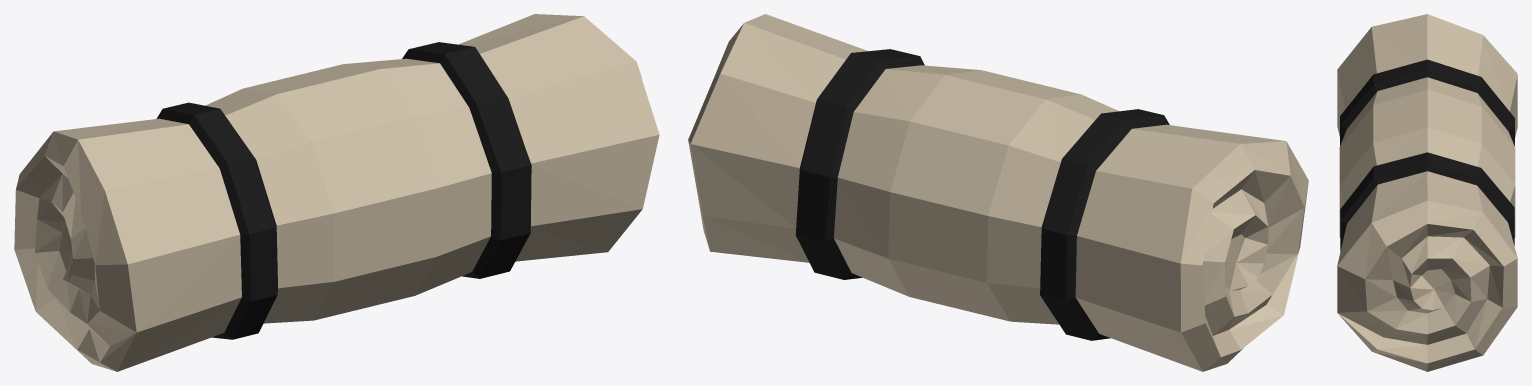
Rendered from SM_Item_Roll_Attachment_01.glb.
3 renders of one model, left to right at view 1: azimuth 30°, elevation 25°; view 2: azimuth 150°, elevation 25°; view 3: azimuth 270°, elevation 25°, orthographic. The views are drawn at different scales.
Parts seen in each view (by area): view 1: SM_Item_Roll_Attachment_01_00; view 2: SM_Item_Roll_Attachment_01_00; view 3: SM_Item_Roll_Attachment_01_00.
Part boxes in pixels (box(x1,y1,x2,y2)): SM_Item_Roll_Attachment_01_00: box(14, 14, 659, 371); SM_Item_Roll_Attachment_01_00: box(688, 14, 1308, 371); SM_Item_Roll_Attachment_01_00: box(1337, 14, 1517, 371).
Size of the model in its own units: 0.5006 by 0.1944 by 0.1849.
1 material, 1 textured.
